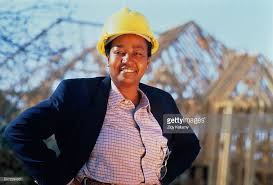Person_wearing_helmet: (98, 5, 159, 60)
